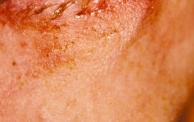SJS-TEN: (0, 0, 162, 82)
